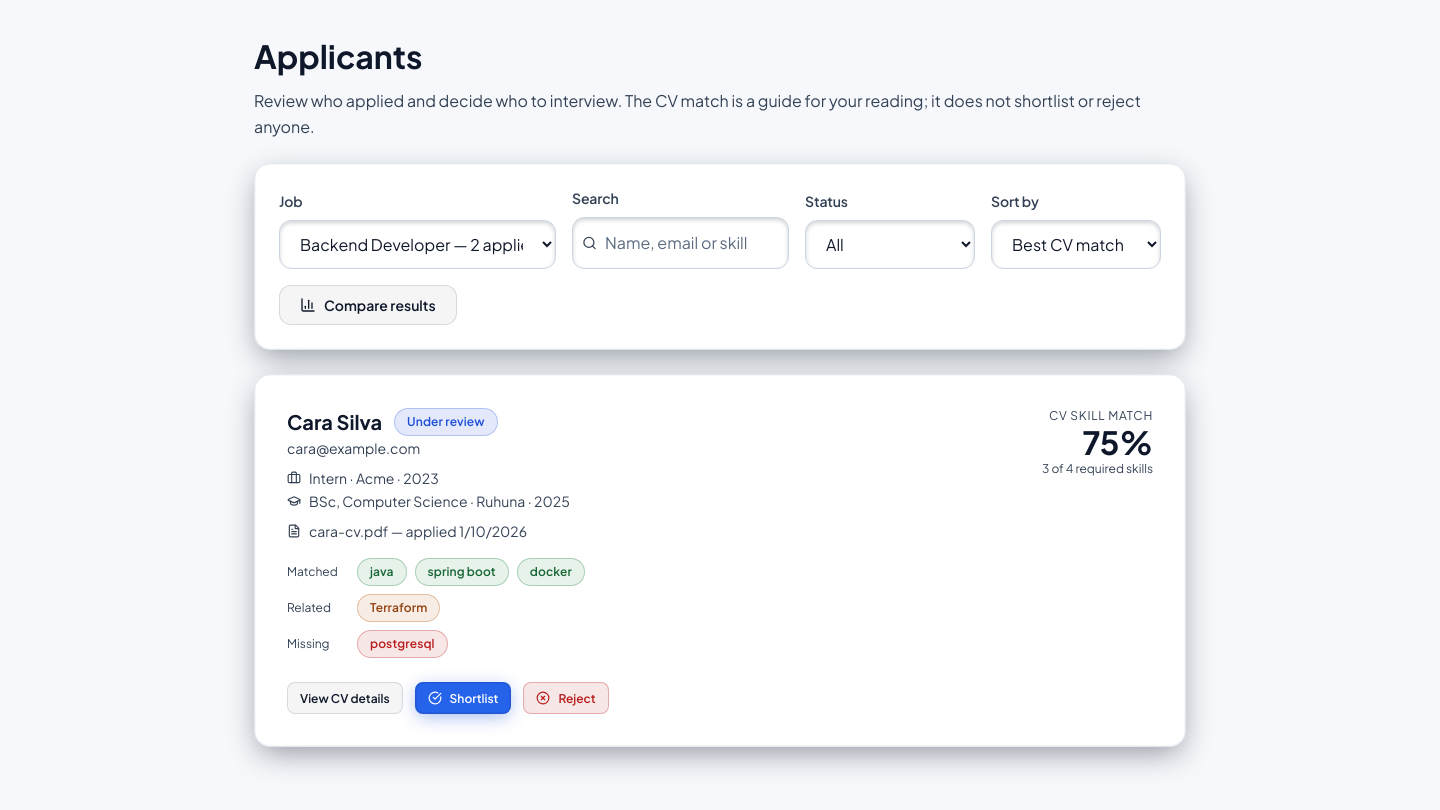
Test: confirming a shortlist sends the decision and updates the row
Click the button "Shortlist": (463, 698) [415,682,511,714]
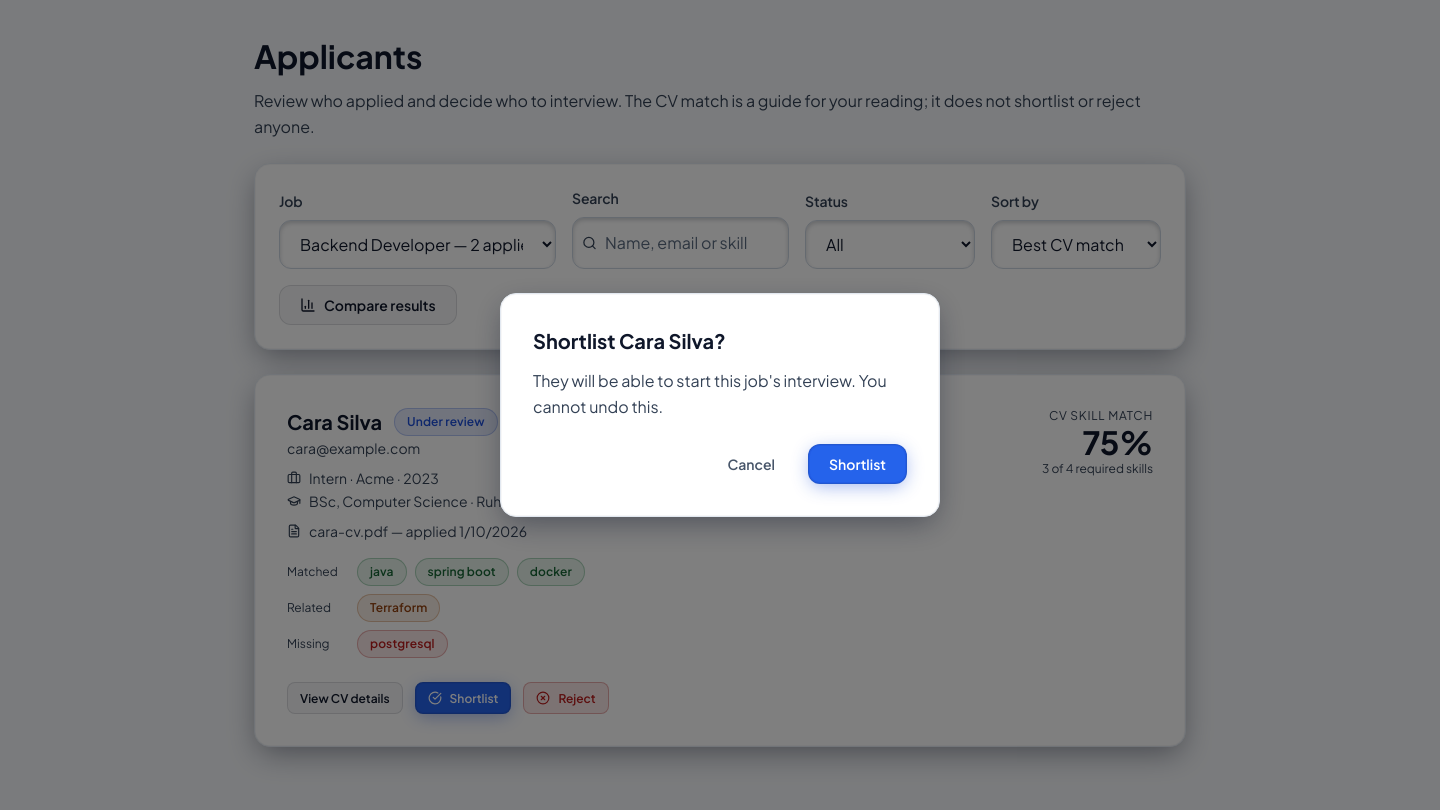
Click the button "Shortlist": (858, 464) [808,444,907,484]
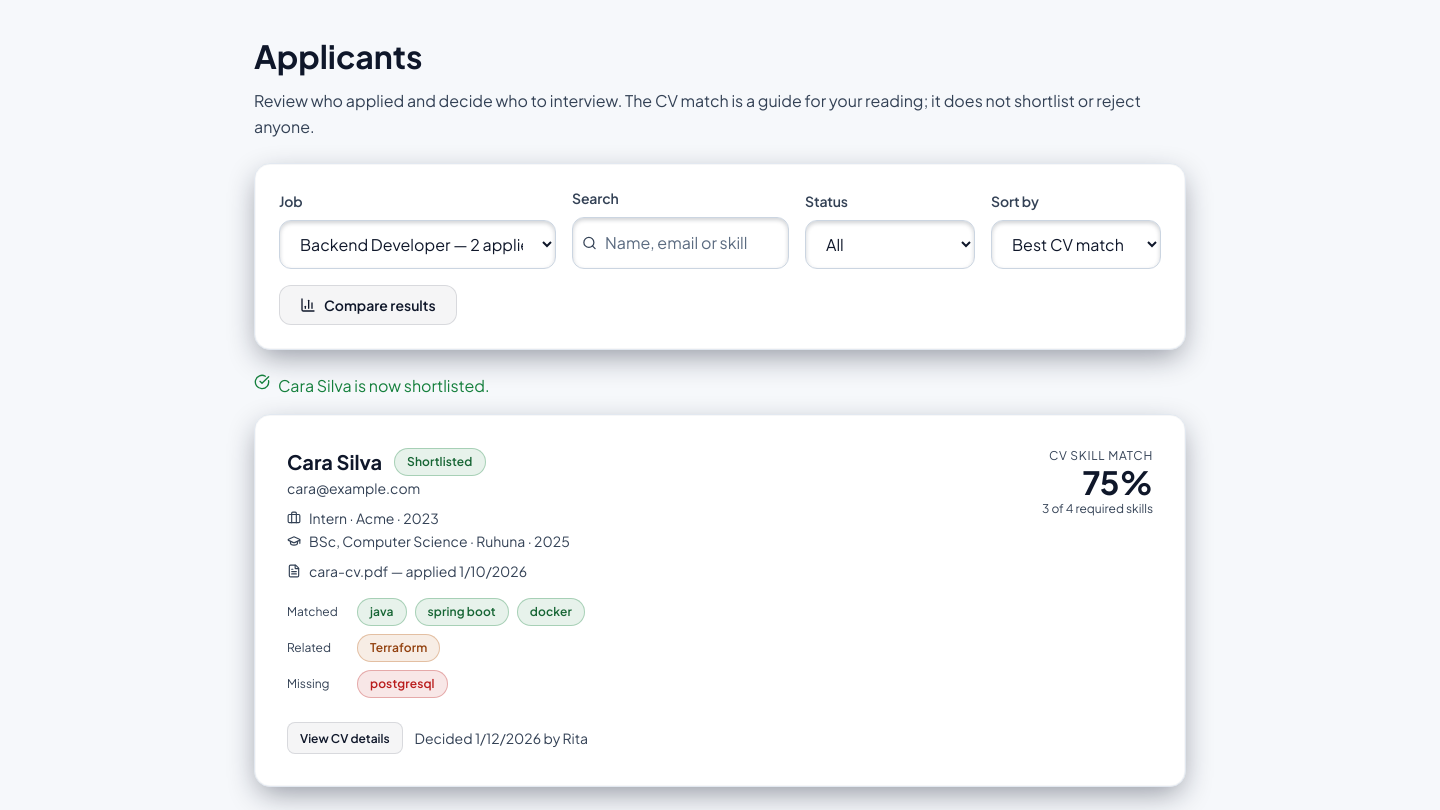
Now the text "shortlisted" is shown, box [278,375,490,396]
Now the dialog is gone
